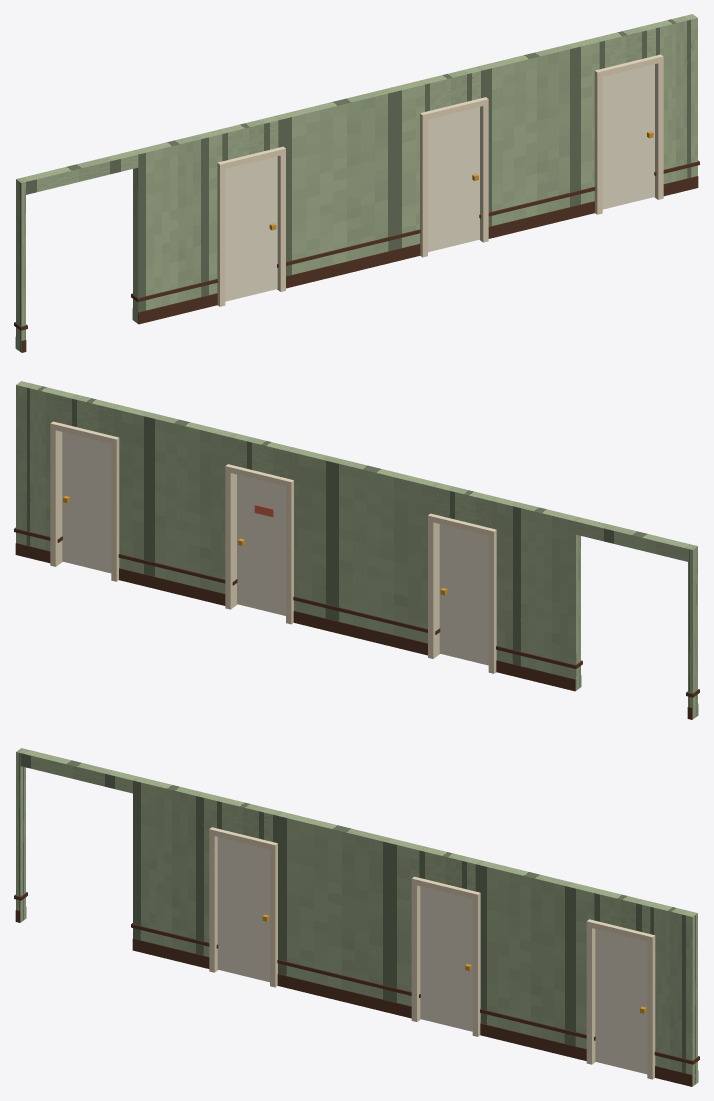
File: hall_back.glb
3 views of the same model, one above another, from view 1: azimuth 30°, elevation 25°; view 2: azimuth 150°, elevation 25°; view 3: azimuth 330°, elevation 25° (orthographic).
Parts seen in each view (by area): view 1: Box5, Box7, Box3, Box25, Box31, Box18, Box9, Box11, Box12, Box14, Box13, Box6 (+11 smaller); view 2: Box5, Box7, Box3, Box31, Box25, Box18, Box9, Box11, Box12, Box14, Box13, Box23 (+12 smaller); view 3: Box5, Box7, Box3, Box9, Box18, Box25, Box31, Box11, Box13, Box14, Box12, Box6 (+12 smaller).
Boxes of the visible parts, <box> form: Box5: <box>273,80,424,276</box>; Box7: <box>476,38,599,226</box>; Box3: <box>133,130,222,323</box>; Box25: <box>602,64,654,209</box>; Box31: <box>225,156,277,301</box>; Box18: <box>428,107,479,252</box>; Box9: <box>651,14,697,183</box>; Box11: <box>21,150,138,194</box>; Box12: <box>217,116,278,161</box>; Box14: <box>595,24,655,69</box>; Box13: <box>420,67,480,111</box>; Box6: <box>286,244,420,288</box>; Box5: <box>289,447,440,643</box>; Box7: <box>114,405,237,593</box>; Box3: <box>491,497,580,690</box>; Box31: <box>439,524,488,665</box>; Box25: <box>62,432,111,573</box>; Box18: <box>237,474,285,615</box>; Box9: <box>16,381,62,550</box>; Box11: <box>575,517,692,561</box>; Box12: <box>435,483,496,528</box>; Box14: <box>58,391,118,436</box>; Box13: <box>233,434,293,478</box>; Box23: <box>50,421,62,566</box>; Box5: <box>273,811,424,1000</box>; Box7: <box>475,860,599,1048</box>; Box3: <box>133,776,221,956</box>; Box9: <box>650,903,697,1086</box>; Box18: <box>420,886,472,1031</box>; Box25: <box>595,929,647,1074</box>; Box31: <box>217,837,269,982</box>; Box11: <box>20,749,137,793</box>; Box13: <box>419,846,480,891</box>; Box14: <box>594,889,655,933</box>; Box12: <box>217,797,277,841</box>; Box6: <box>277,974,411,1018</box>.
Size of the model in its own units: 10.89 by 2.6 by 0.3.
Materials: 6 (1 with a texture image).
